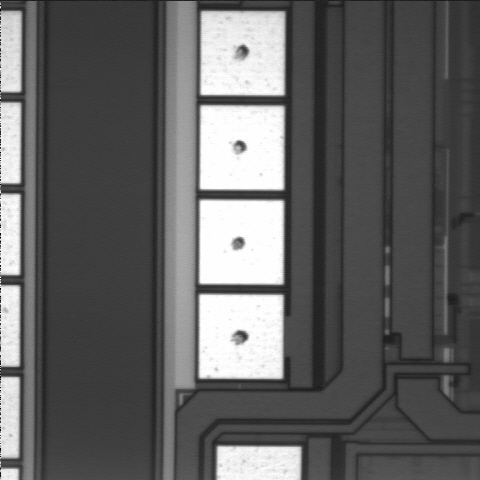pad: (199, 200, 284, 285), (200, 11, 285, 95), (200, 105, 284, 190), (199, 294, 283, 379)
